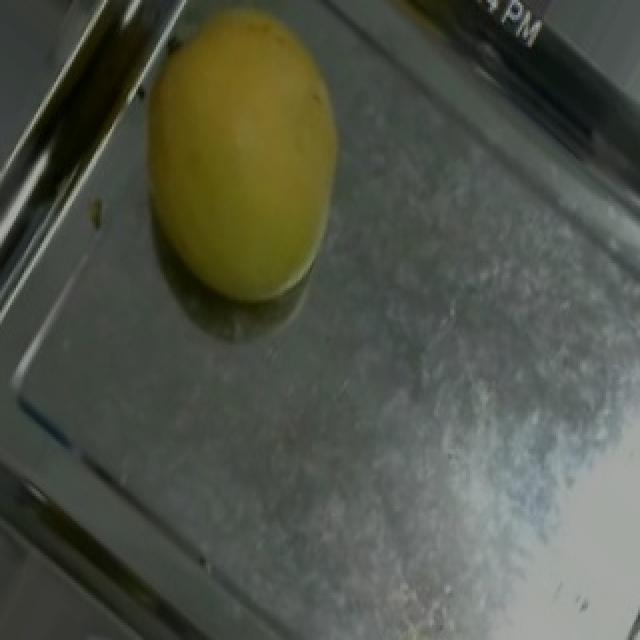fruit: (96, 0, 438, 355)
